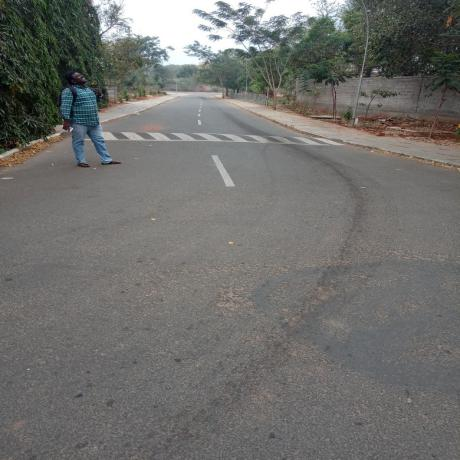Speed Bump: (103, 131, 348, 145)
